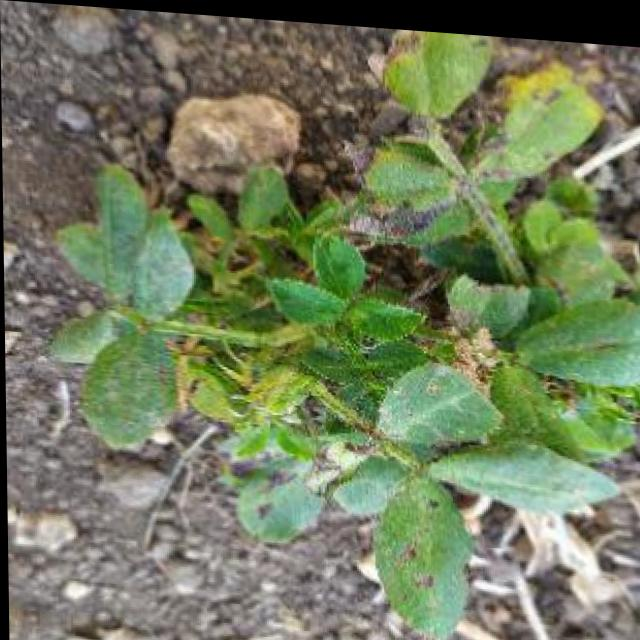weed: (60, 3, 640, 640)
